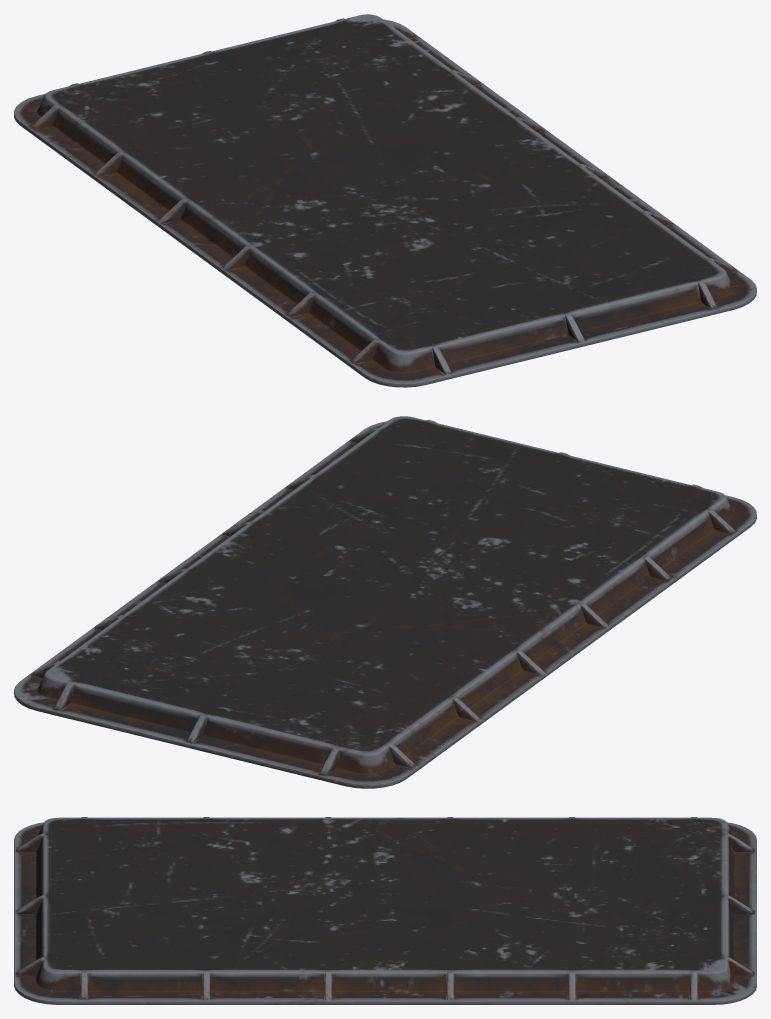
File: SM_RoomStyle_Floor08Door.fbx
3 views of the same model, one above another, from view 1: azimuth 30°, elevation 25°; view 2: azimuth 150°, elevation 25°; view 3: azimuth 270°, elevation 25° (orthographic). The views are drawn at different scales.
Visible parts, largest first — view 1: SM_RoomStyle_Floor08Door_LOD0; view 2: SM_RoomStyle_Floor08Door_LOD0; view 3: SM_RoomStyle_Floor08Door_LOD0.
Boxes of the visible parts, x1,y1,x2,y2 form: SM_RoomStyle_Floor08Door_LOD0: (14, 14, 756, 387); SM_RoomStyle_Floor08Door_LOD0: (14, 416, 756, 788); SM_RoomStyle_Floor08Door_LOD0: (14, 817, 756, 1004).
Bounding box in the file's own units: 134 × 233 × 7.05.
Materials: 1 (1 with a texture image).
